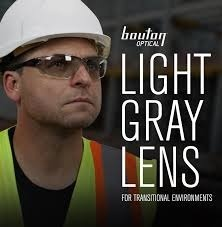helmet: (1, 1, 111, 62)
person with full safety: (1, 2, 115, 225)
safety vest: (2, 128, 155, 221)
